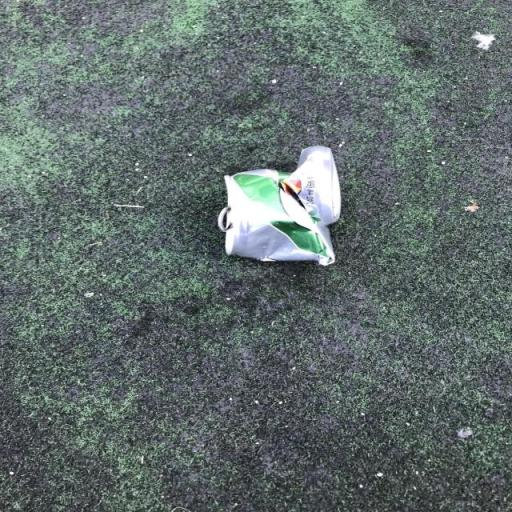metal: (126, 128, 405, 317)
